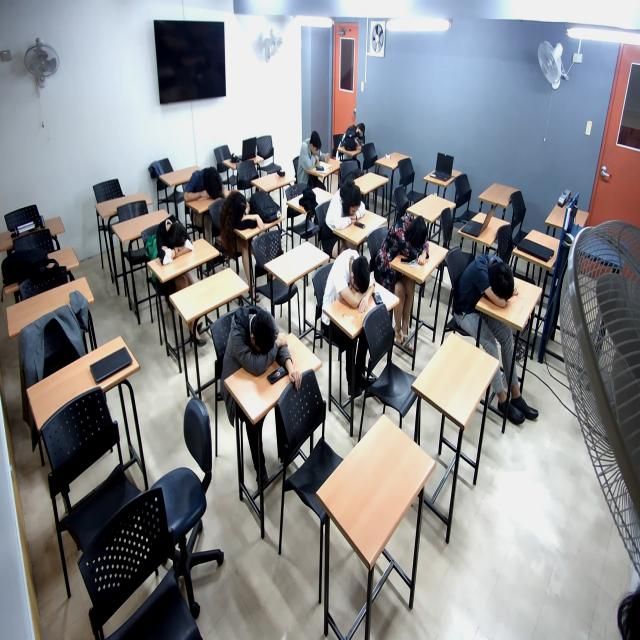sleep: (225, 303, 294, 381), (461, 253, 523, 311), (324, 247, 376, 312), (382, 211, 436, 270), (153, 212, 196, 271), (325, 178, 369, 233), (220, 190, 263, 235), (185, 165, 228, 202), (341, 121, 369, 151)
